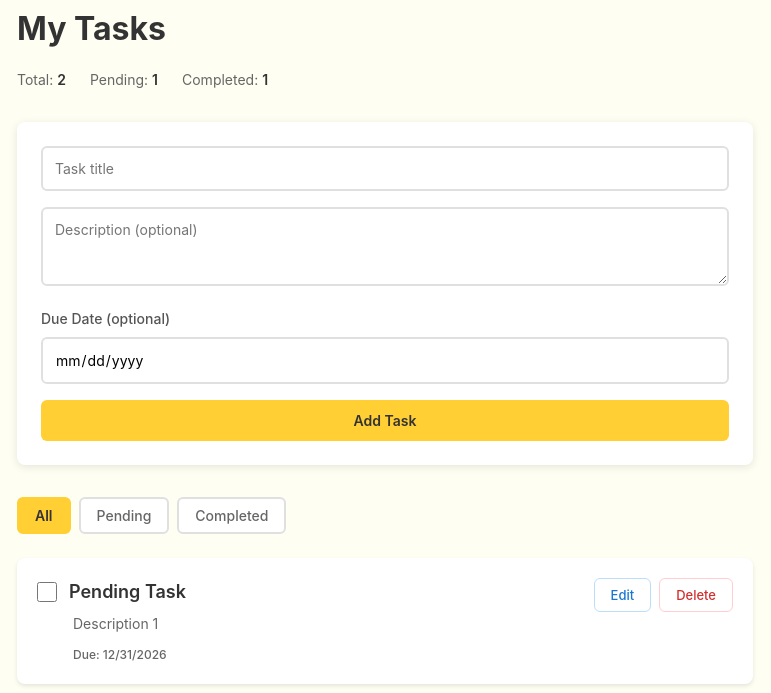
Scenario: TaskBoard › should create a new task
expect the element with test id "task-1" is shown: met, box [17,558,753,684]
Type "New Task" into the field with placeholder "Task title". click: coordinates (385, 168)
box: [41,146,729,191]
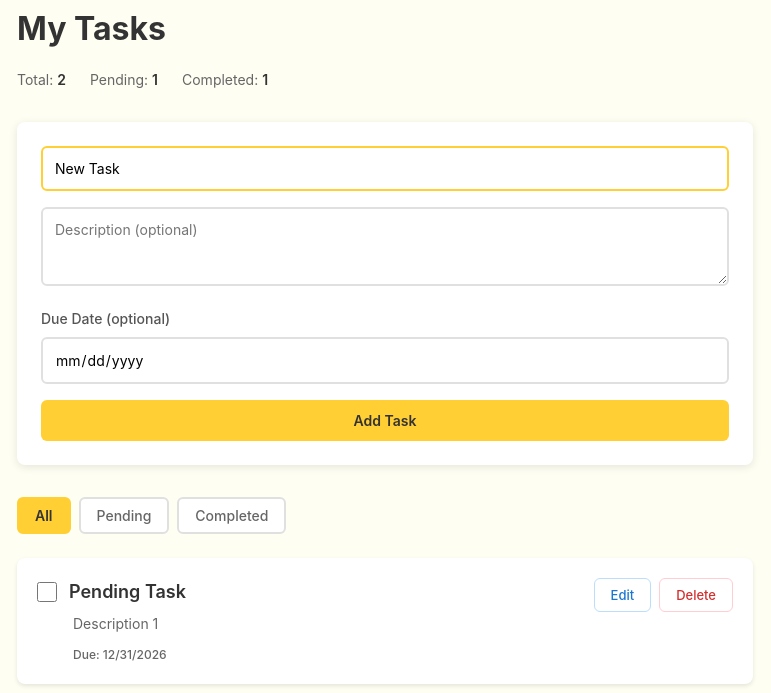
Type "New Description" into the text box with placeholder "Description (optional)". click: coordinates (385, 246)
box: [41,207,729,286]
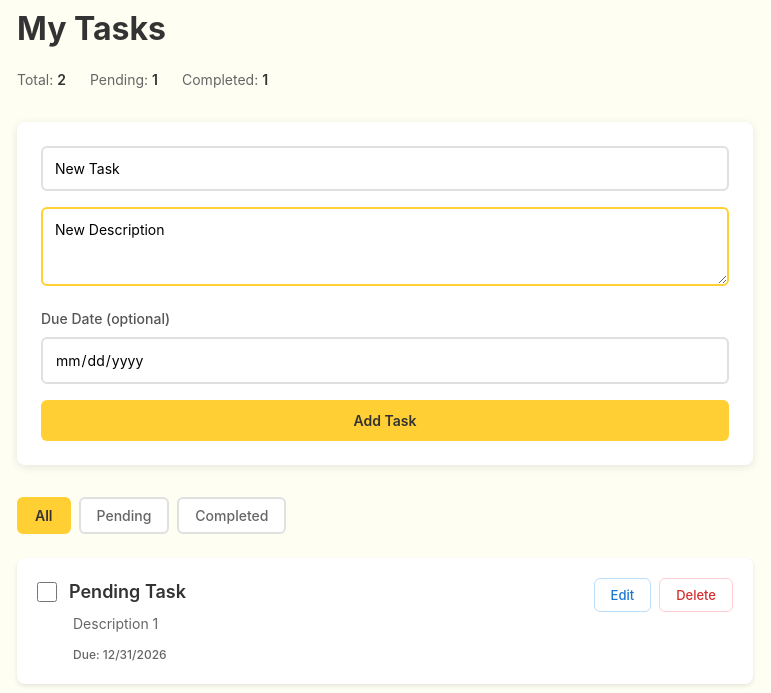
Type "2026-06-15" into the date field labelled "Due Date (optional)". click: coordinates (385, 360)
box: [41,337,729,384]
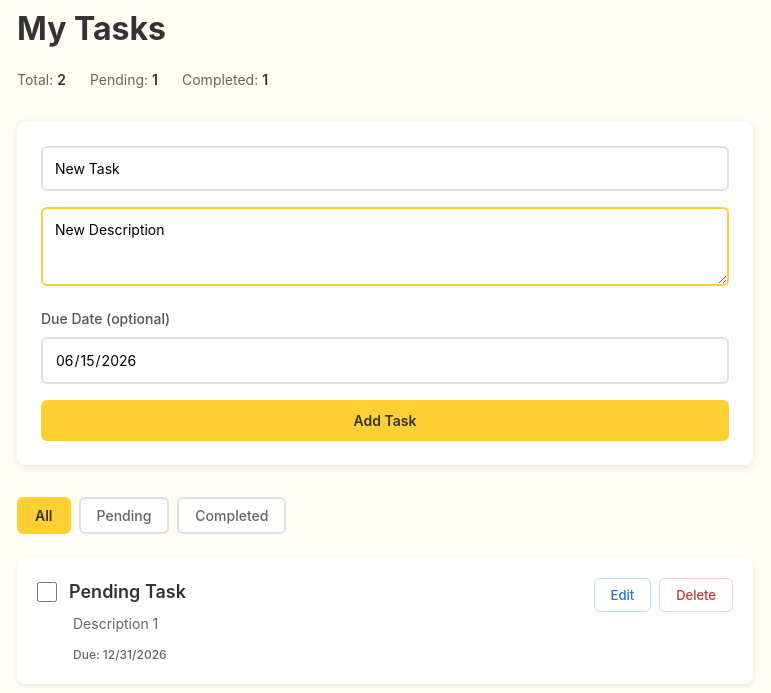
# Submit form
Click the button "Add Task". click: coordinates (385, 420)
box: [41,400,729,441]
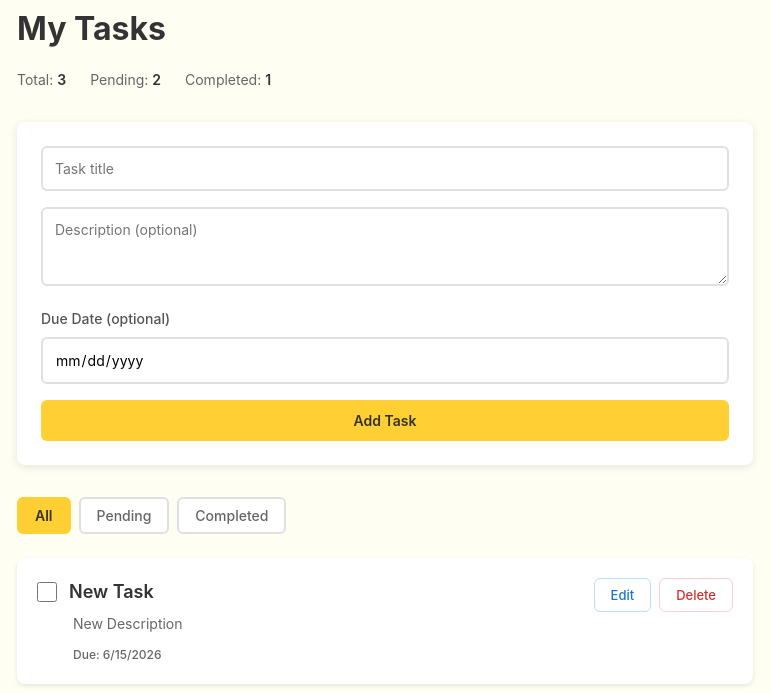
expect the element with test id "task-3" is shown: met, box [17,558,753,684]
